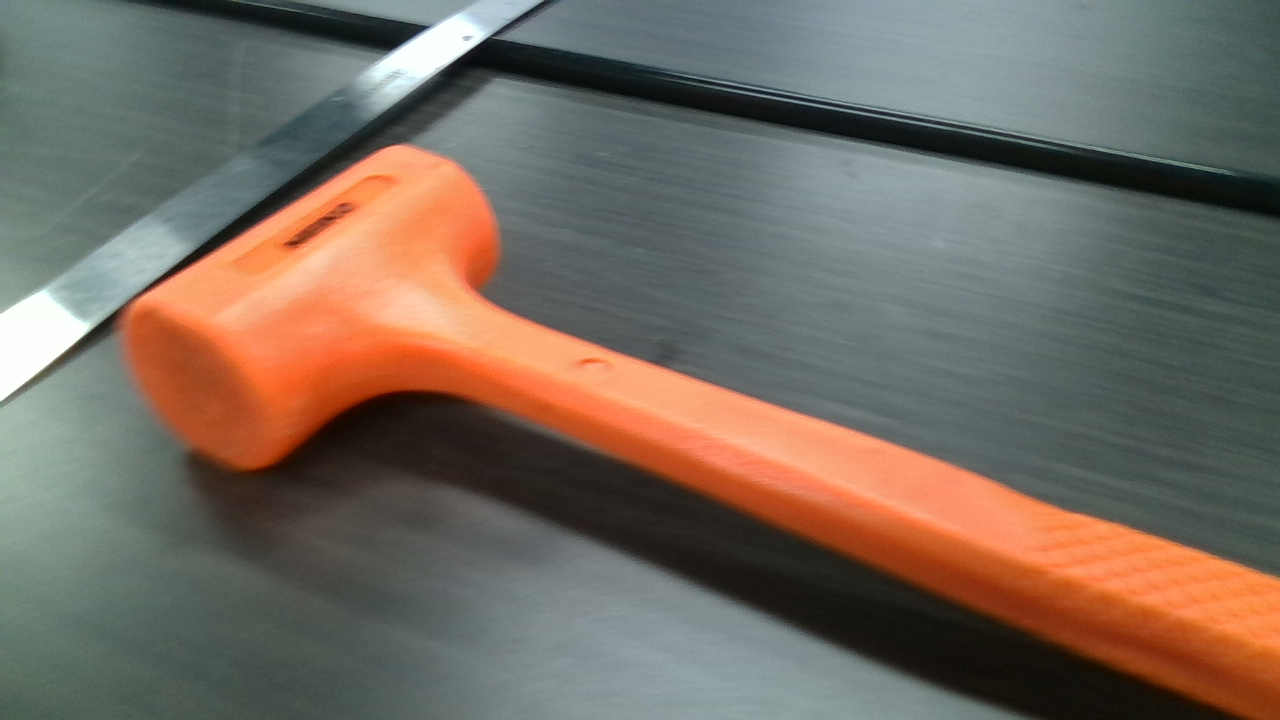Orange Hammer: (117, 145, 1280, 720)
